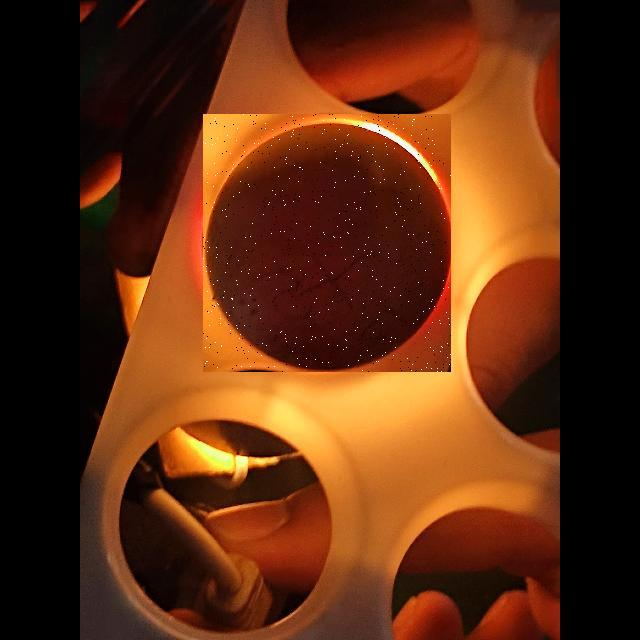Fertile: (203, 114, 451, 372)
